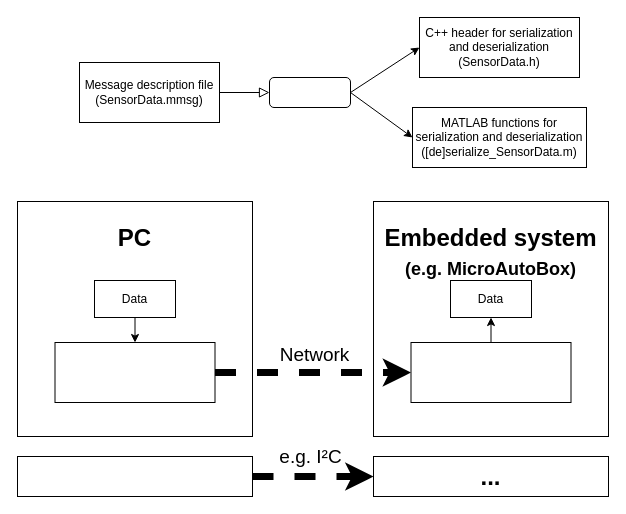
Some shapes in this 626 by 514 pixel diagram are drawn without their labels. The shapes that lost their labels are listed below. From the top down, each one's centre as x and y in pixels, then its label:
At (309,92): "microbuf".
At (134,372): "Serialization using C++ header (SensorData.h)".
At (490,372): "Deserialization using MATLAB function (deserialize_SensorData.m)".
At (134,476): "Microcontroller".
